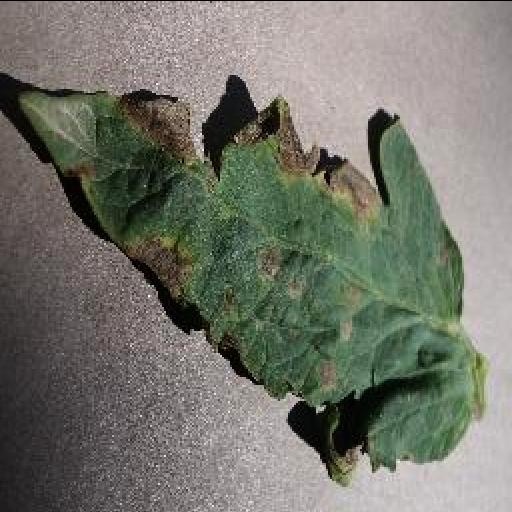disease_tomato: (18, 82, 488, 484)
